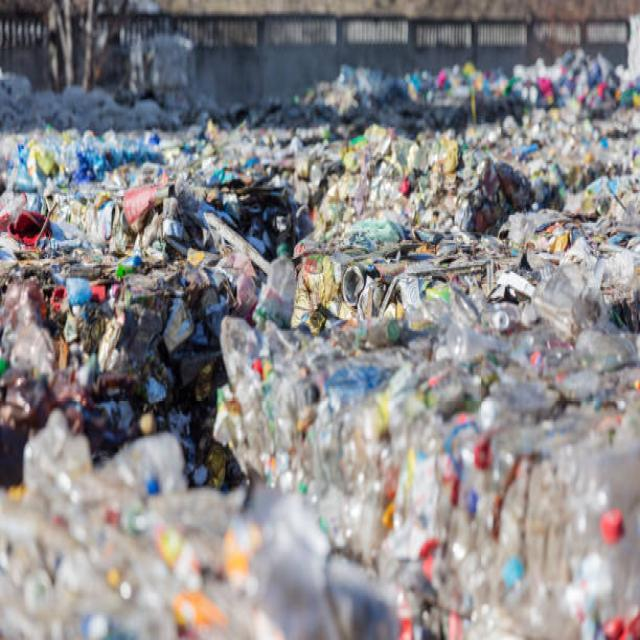plastic: (76, 208, 638, 568)
